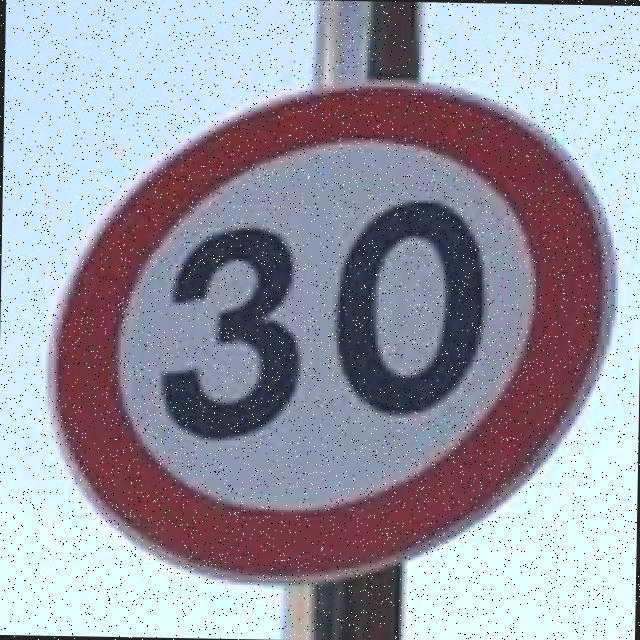Ograniczenie predkosci do 30: (42, 76, 606, 588)
